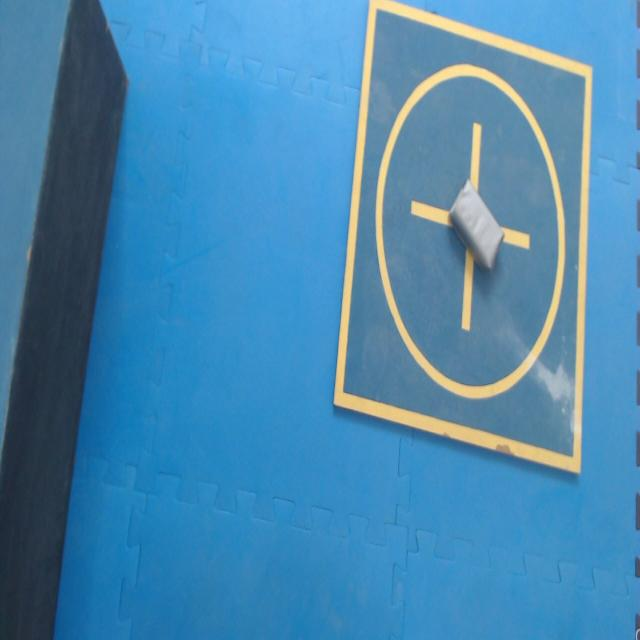lipo: (450, 180, 504, 268)
